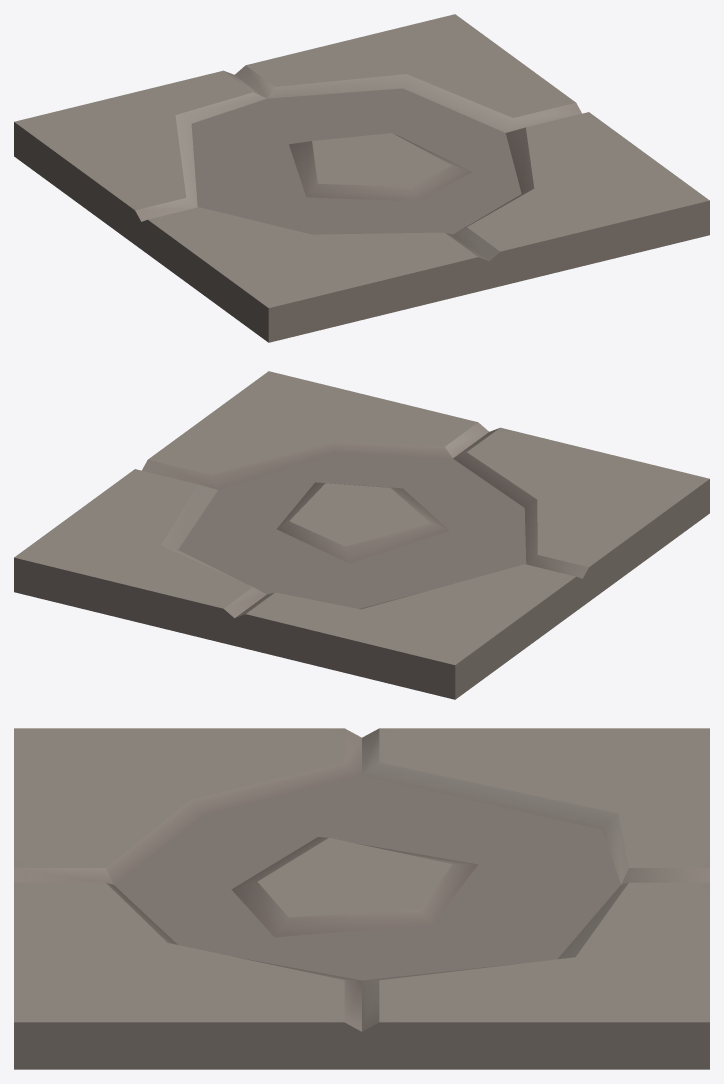
File: floor_tile_small_broken_a.glb
3 renders of one model, top to bottom at view 1: azimuth 30°, elevation 25°; view 2: azimuth 150°, elevation 25°; view 3: azimuth 270°, elevation 25°, orthographic. The views are drawn at different scales.
Visible parts, largest first — view 1: floor_tile_small_broken_A; view 2: floor_tile_small_broken_A; view 3: floor_tile_small_broken_A.
Boxes of the visible parts, <box> form: floor_tile_small_broken_A: <box>14,14,709,342</box>; floor_tile_small_broken_A: <box>14,371,709,699</box>; floor_tile_small_broken_A: <box>14,728,709,1069</box>.
Bounding box in the file's own units: 2 × 0.1499 × 2.
1 material, 1 textured.
